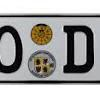D: (61, 24, 96, 75)
O: (0, 25, 25, 75)
